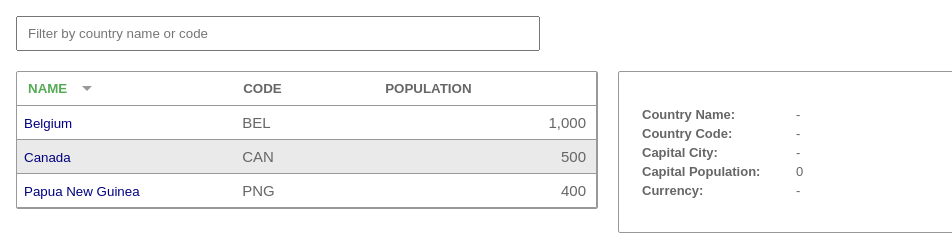
Scenario: <App /> › should display selected country's details
Step 1. Click the button "Canada" → (47, 157), box left=18, top=148, right=77, bottom=166
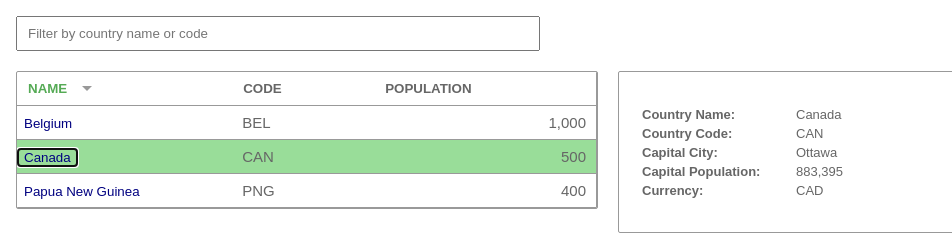
Result: the element with test id "details-panel" shows "Ottawa" at left=796, top=144, right=837, bottom=160
Result: the element with test id "details-panel" shows "CAD" at left=796, top=182, right=824, bottom=198
Result: the element with test id "details-panel" shows "883,395" at left=796, top=164, right=843, bottom=178
